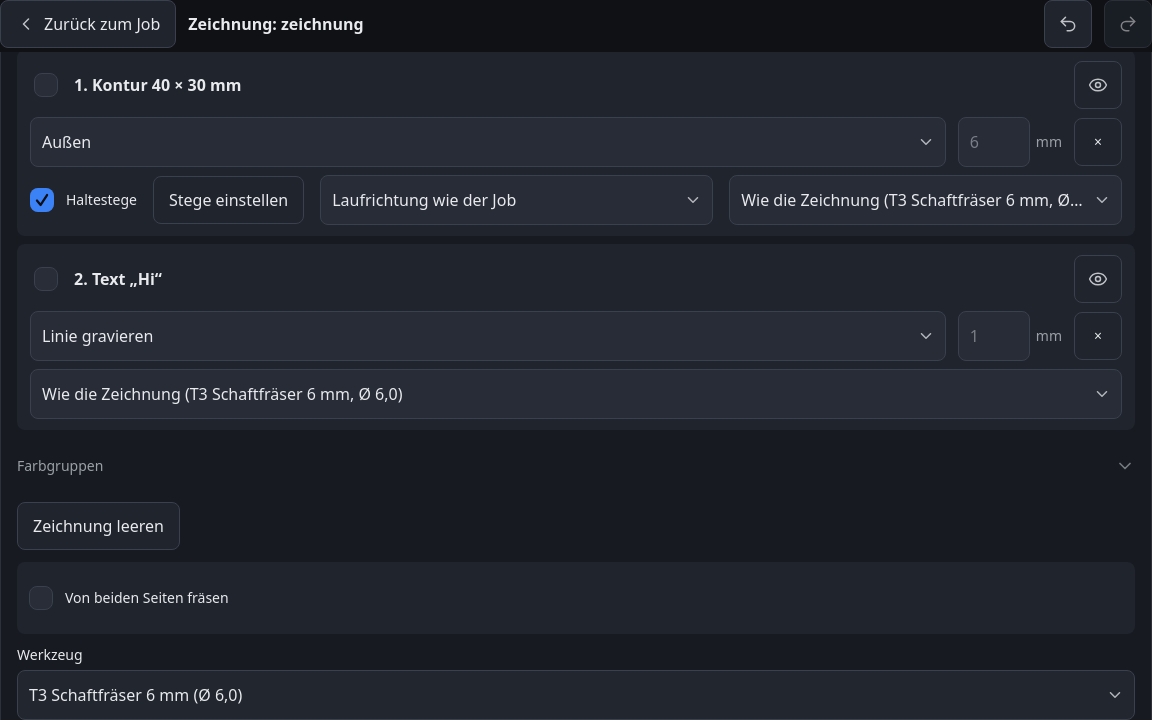
Test: the cutter of a part in the list › a tool list that no program can be made from: the red list says it, the hand-over is closed with the reason
This screenshot has width=1152, height=720.
Select "T4 V-Fräser 60° (Ø 3,0)" in the dropdown named "Werkzeug von Teil 2" at (576, 394), box [31,370,1121,418]
(page scrolled)
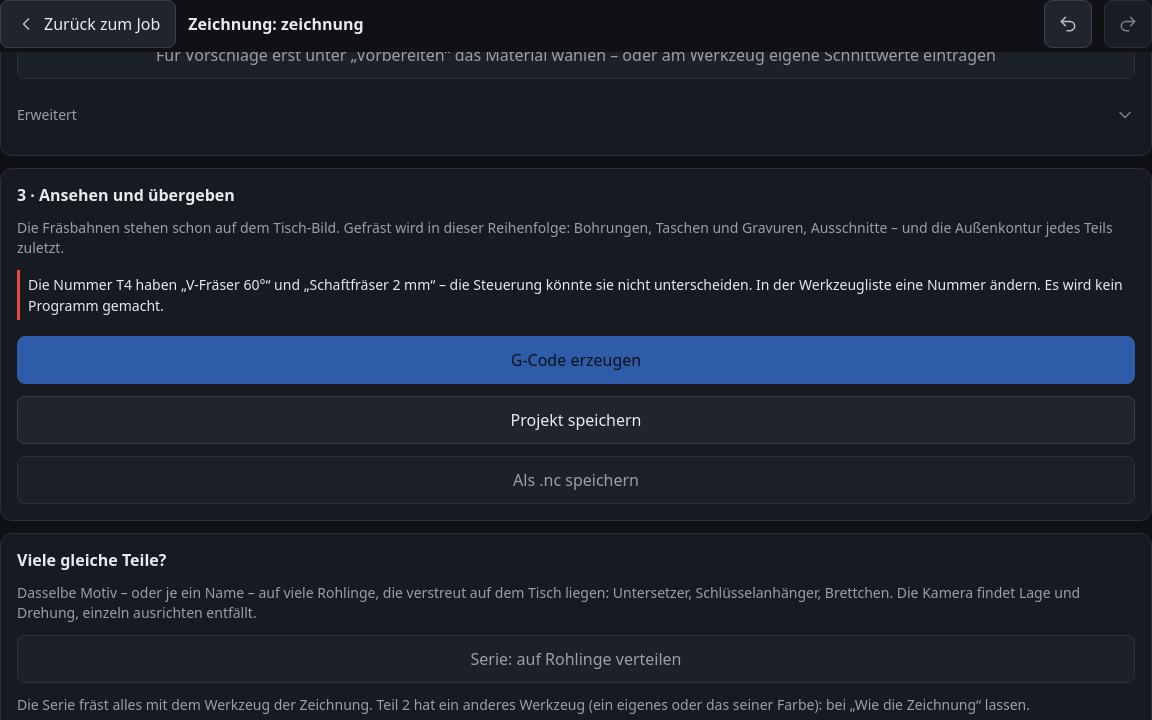
expect the list with test id "cam-tool-notes" shows "Die Nummer T4 haben „V-Fräser 60°“ und „Schaftfräser 2 mm“": met, box [28,275,1123,315]
expect the list with test id "cam-tool-notes" shows "Es wird kein Programm gemacht": met, box [28,275,1123,315]
